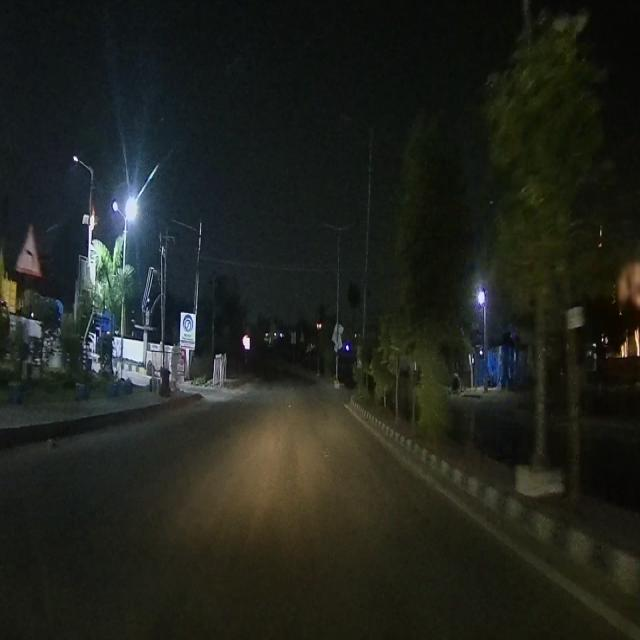left-hand-curve: (18, 216, 40, 273)
